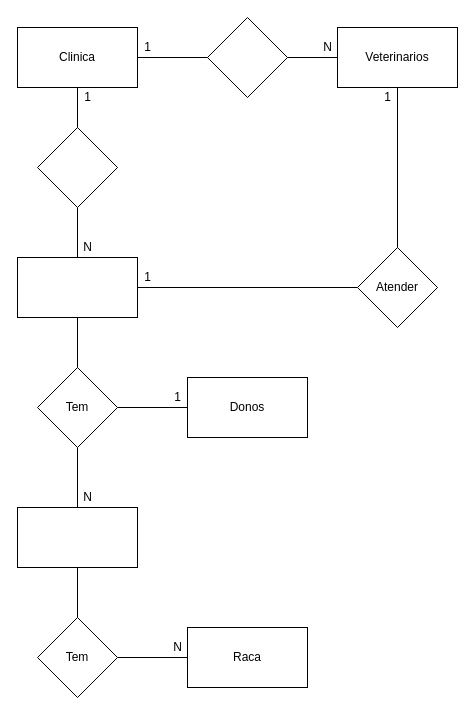
This 475x715 diagram has some shape labels left out. The shapes that lost their labels are listed below. From the top down, each one's centre as x and y in pixels, then its label:
(x=247, y=57): Cadastrar
(x=77, y=167): Possui
(x=77, y=287): Pets
(x=77, y=537): Tipo
